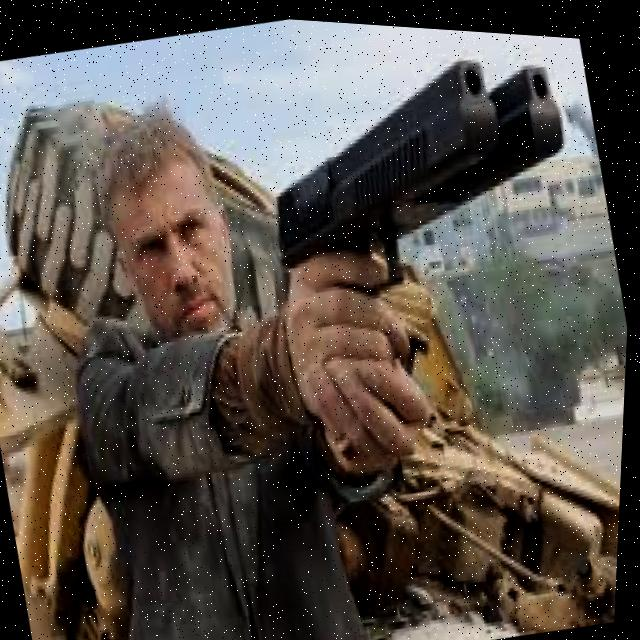pistol: (245, 24, 597, 324)
